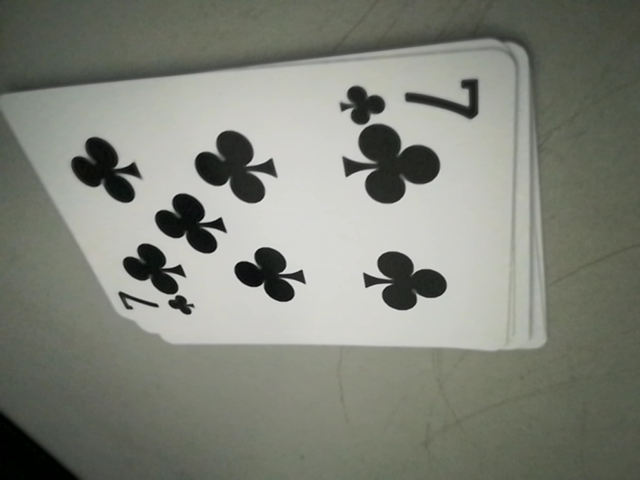mh 7: (334, 68, 493, 126), (110, 286, 191, 325)
